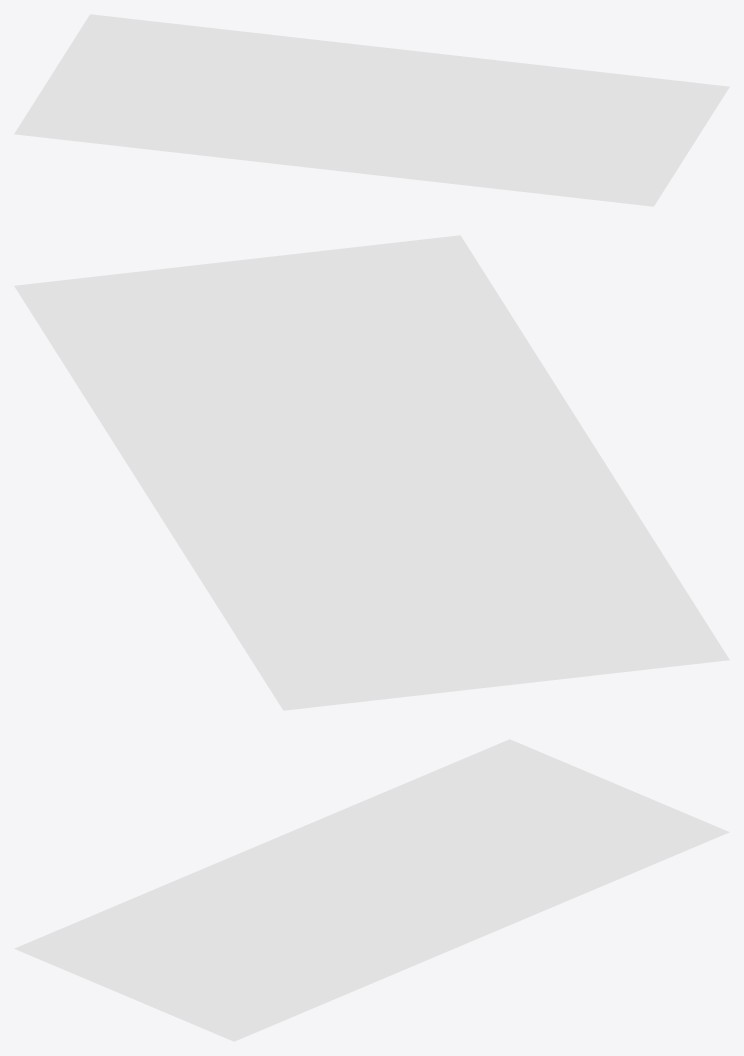
The model's file is GoldenLight_gradient (2).fbx.
The picture shows the model from 3 angles, top to bottom: view 1: azimuth 30°, elevation 25°; view 2: azimuth 150°, elevation 25°; view 3: azimuth 270°, elevation 25°; orthographic projection. The views are drawn at different scales.
Visible parts, largest first — view 1: GoldenLight_gradient (2); view 2: GoldenLight_gradient (2); view 3: GoldenLight_gradient (2).
Part boxes in pixels (left/top/right/bottom): GoldenLight_gradient (2): left=14, top=14, right=729, bottom=206; GoldenLight_gradient (2): left=14, top=235, right=729, bottom=710; GoldenLight_gradient (2): left=14, top=739, right=729, bottom=1041.
Size of the model in its own units: 134 by 1.42e-14 by 134.
